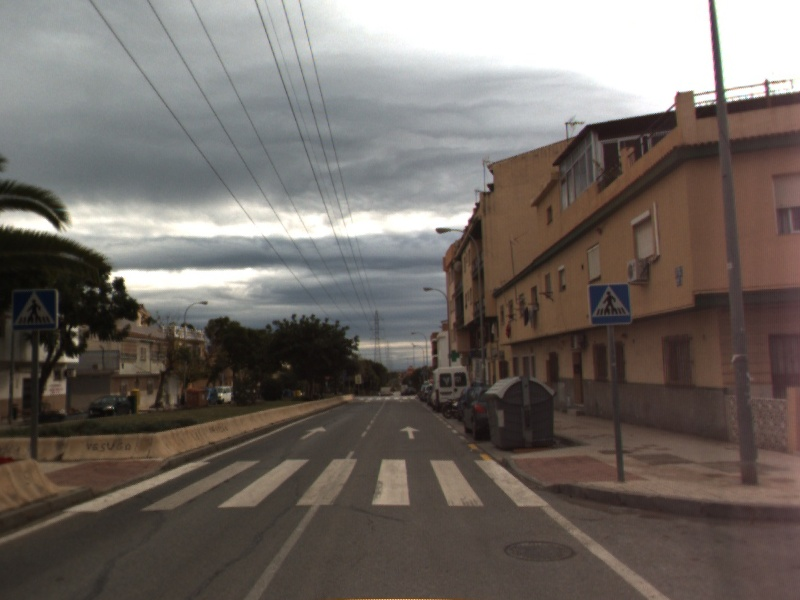STRAIGHT: (297, 424, 328, 442), (398, 424, 422, 441)
